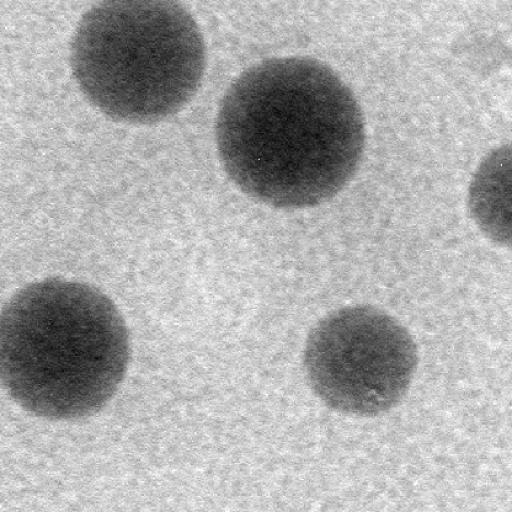Nanoparticles: (216, 50, 369, 208), (0, 274, 133, 424), (71, 0, 208, 126), (302, 301, 421, 418), (467, 139, 512, 247)
